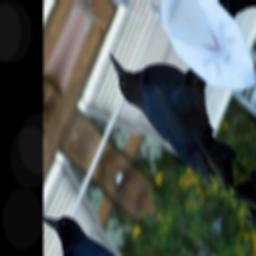Crow: (97, 9, 256, 204)
